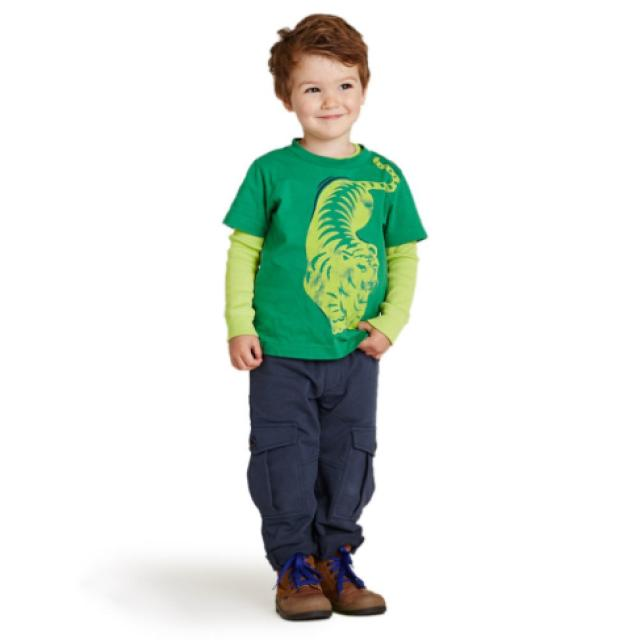child: (201, 4, 432, 623)
